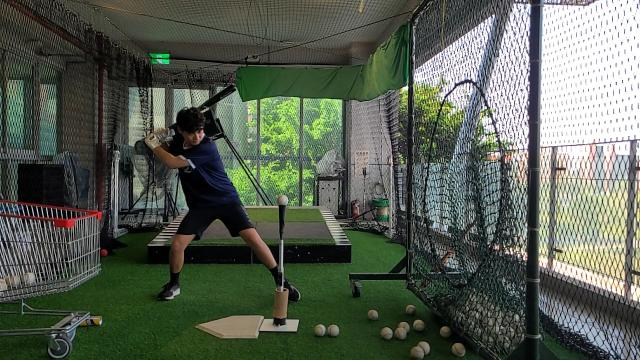ball: (312, 323, 326, 336), (381, 326, 393, 340), (327, 325, 339, 337), (395, 328, 407, 340), (276, 195, 288, 205), (368, 310, 378, 320), (406, 304, 416, 314)
bat: (169, 84, 237, 130)
